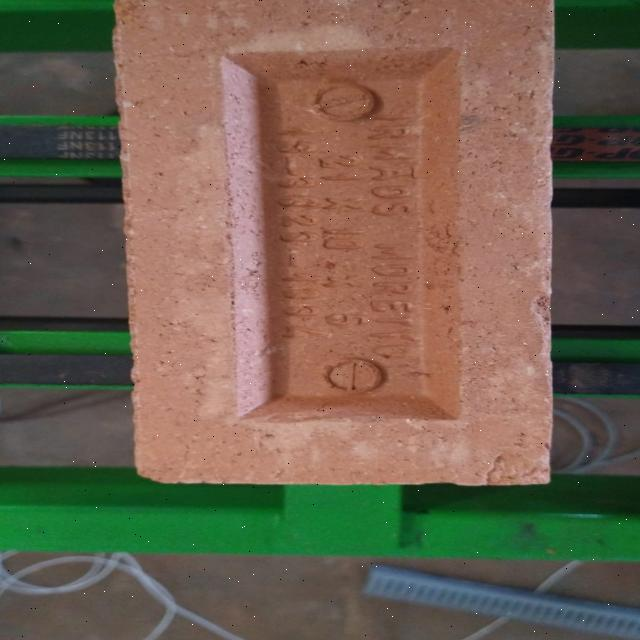bricks: (113, 0, 551, 487)
